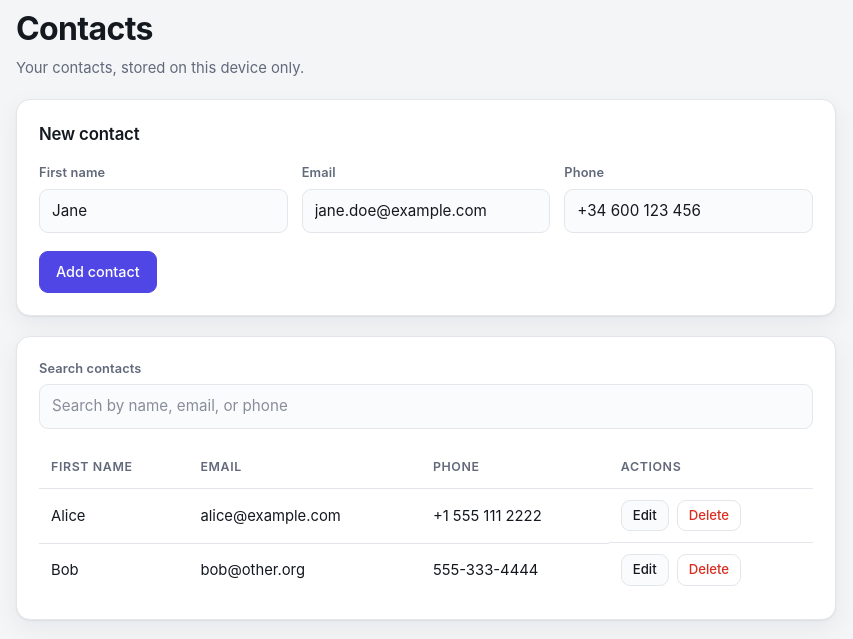
Test: editing a contact › marks the row bound to the form and unmarks it when the edit ends
The width and height of the screenshot is (853, 639).
Step 1. Click the button "Edit" in the row of "alice@example.com" → (645, 515), box left=621, top=500, right=669, bottom=531
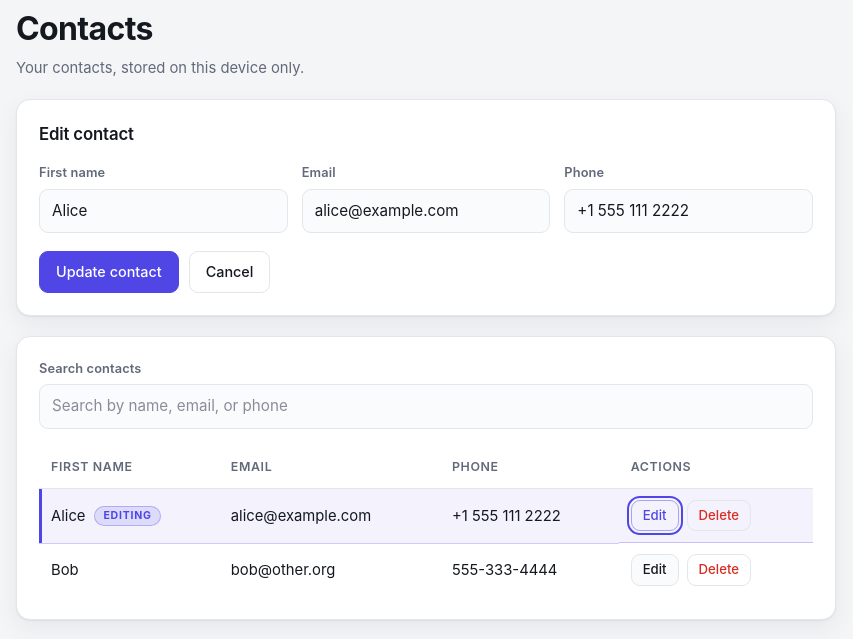
Expected: the text "Editing" is shown, left=94, top=506, right=161, bottom=526
Step 2. Click the button "Cancel" → (230, 272), box left=189, top=251, right=270, bottom=293
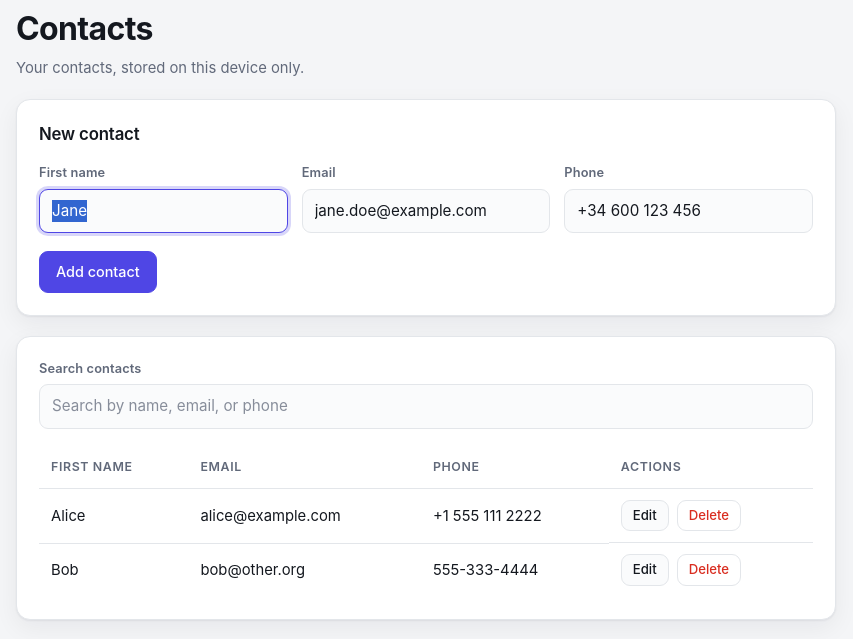
Expected: the text "Editing" is gone
